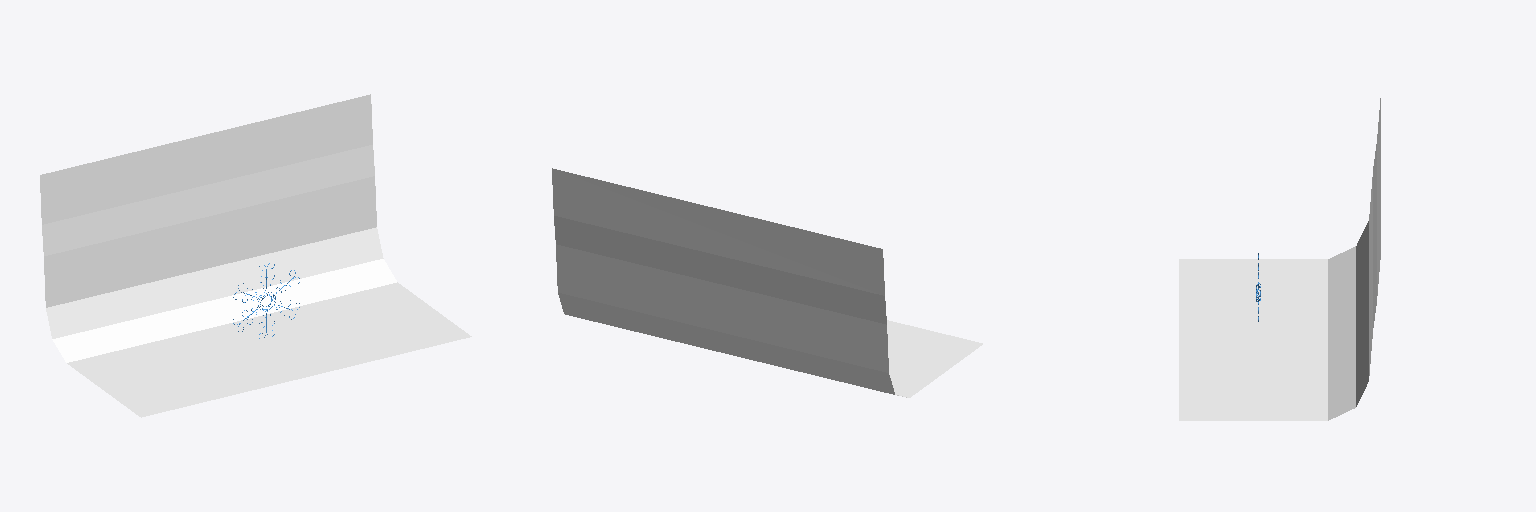
The model's file is snowflake.obj.
3 views of the same model, side by side, from view 1: azimuth 30°, elevation 25°; view 2: azimuth 150°, elevation 25°; view 3: azimuth 270°, elevation 25° (orthographic).
Parts seen in each view (by area): view 1: Cube; view 2: Cube; view 3: Cube.
Part boxes in pixels (x1,y1,x2,y2): Cube: (40,94,471,417); Cube: (552,168,982,397); Cube: (1179,98,1380,420).
Bounding box in the file's own units: 57.19 × 27.81 × 30.22.